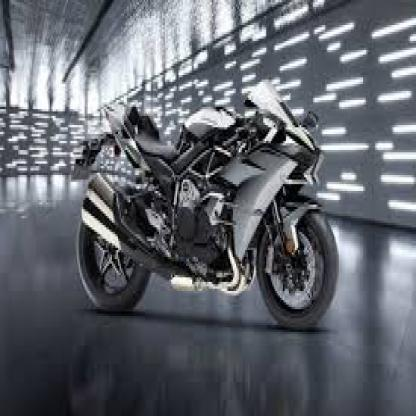Motorcycle: (75, 86, 339, 329)
